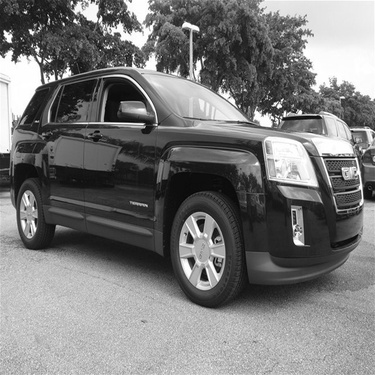car: (2, 63, 369, 311), (253, 100, 359, 169), (340, 115, 374, 156), (351, 139, 371, 205)
